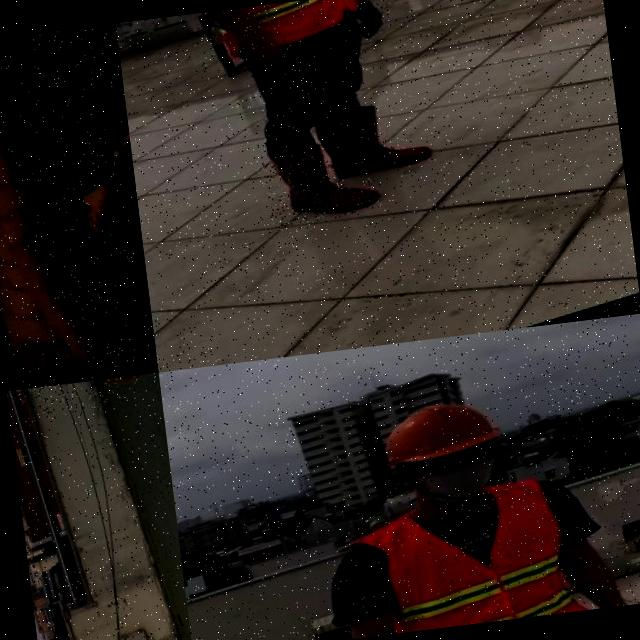boots: (251, 125, 384, 238), (317, 88, 443, 190)
helmet: (358, 382, 508, 479)
vest: (342, 468, 592, 638), (169, 0, 364, 73)
